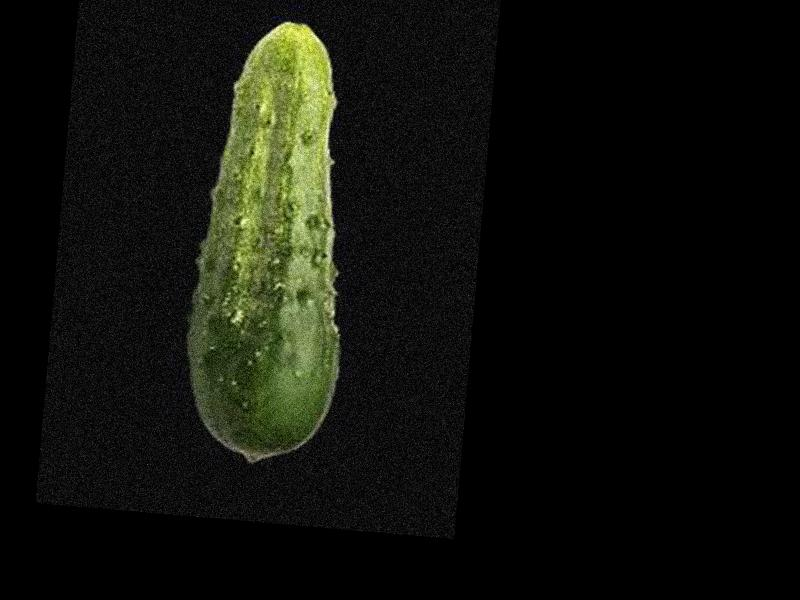Cucumber: (173, 16, 368, 468)
